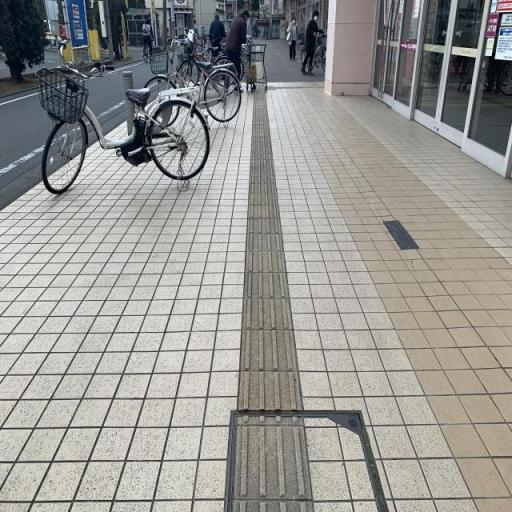line: (234, 425, 314, 498), (238, 370, 303, 409), (241, 328, 298, 370), (243, 297, 293, 330), (243, 272, 288, 297), (245, 251, 286, 271)
